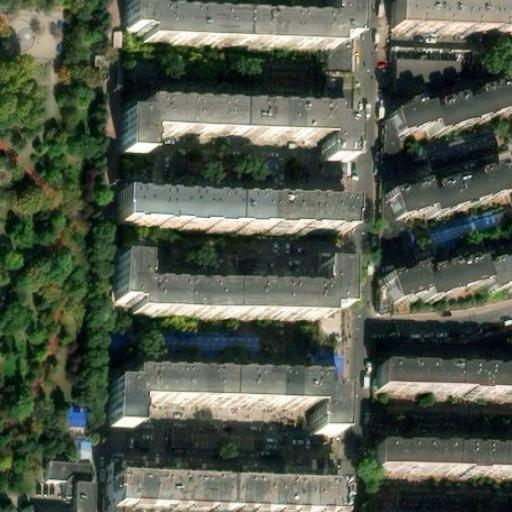building: (122, 95, 357, 161), (111, 369, 345, 435), (114, 261, 349, 324), (107, 470, 337, 512), (118, 195, 352, 236), (425, 162, 512, 218), (425, 81, 512, 137), (375, 441, 512, 474), (375, 361, 512, 393), (383, 112, 408, 276), (424, 206, 510, 249), (393, 0, 512, 31), (45, 461, 95, 512), (422, 259, 484, 298), (158, 331, 259, 352), (383, 267, 427, 302), (387, 181, 430, 216), (387, 100, 430, 135), (479, 260, 510, 293)
